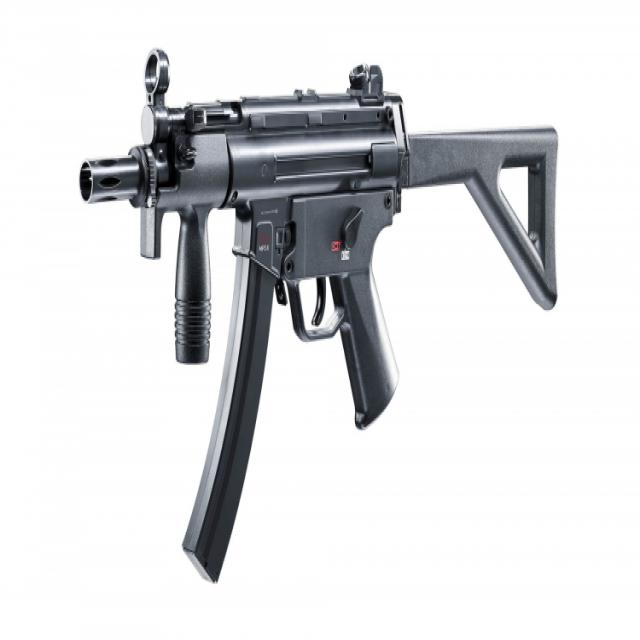SMG: (79, 49, 560, 584)
